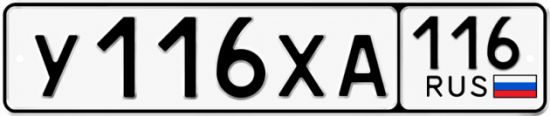number_plate: (12, 7, 542, 112)
